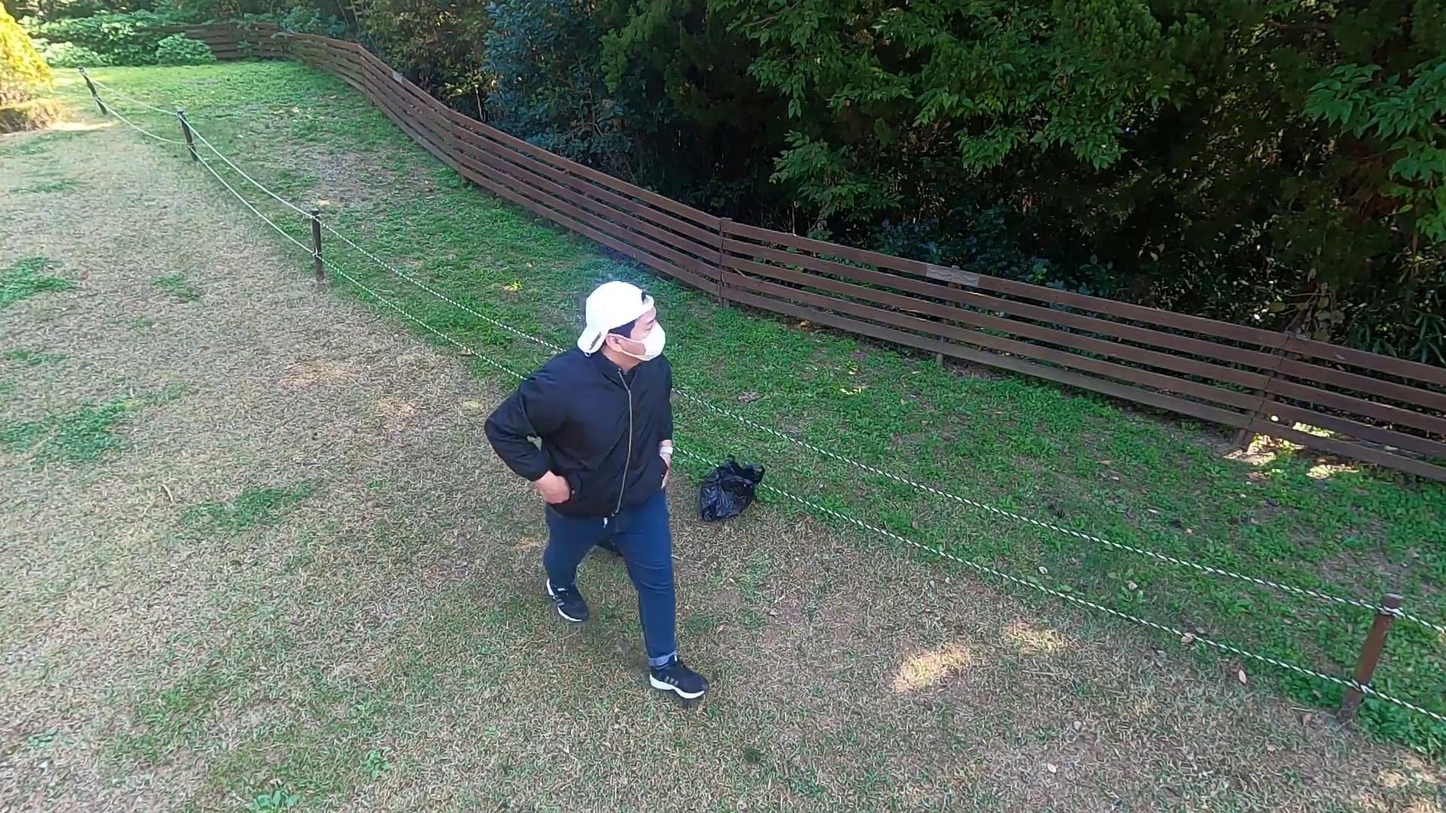person: (486, 280, 717, 702)
trash: (692, 447, 764, 526)
